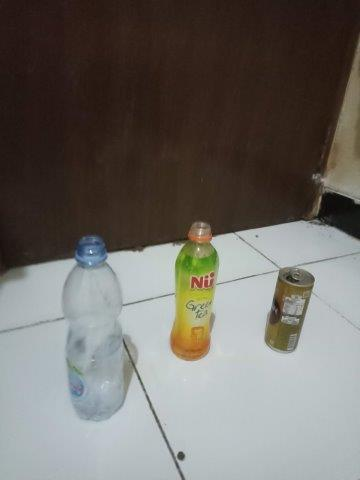botolplastik: (61, 235, 126, 421), (170, 220, 219, 360)
kaleng: (265, 266, 315, 354)
